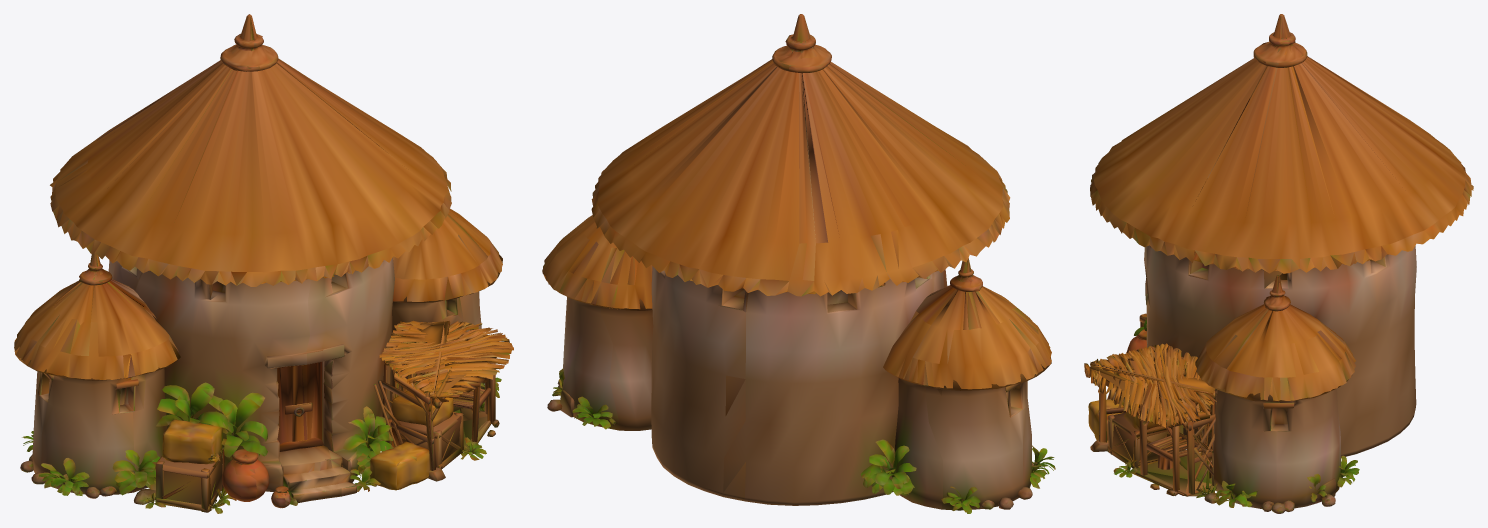
Rendered from preview.glb.
3 views of the same model, side by side, from view 1: azimuth 30°, elevation 25°; view 2: azimuth 150°, elevation 25°; view 3: azimuth 270°, elevation 25° (orthographic). The views are drawn at different scales.
Parts seen in each view (by area): view 1: Mesh_0; view 2: Mesh_0; view 3: Mesh_0.
Boxes of the visible parts, x1,y1,x2,y2 form: Mesh_0: (14, 14, 513, 513); Mesh_0: (542, 14, 1055, 513); Mesh_0: (1084, 14, 1473, 513).
Bounding box in the file's own units: 9.36 × 7.92 × 7.09.
